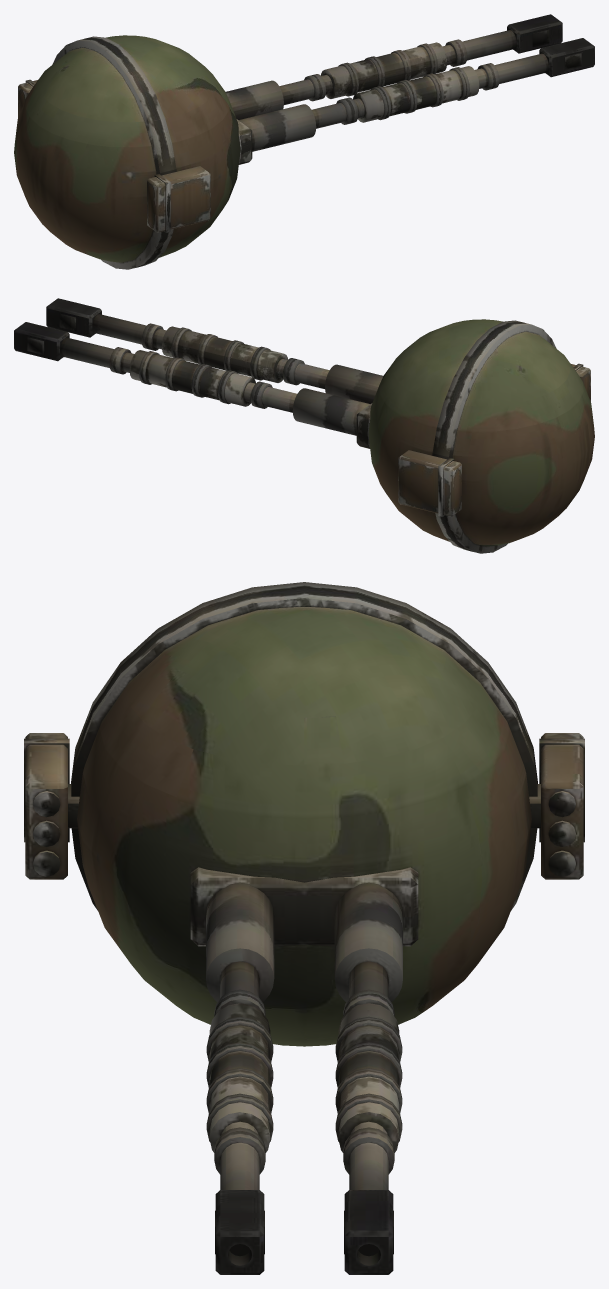
Rendered from turret_kit_tail_ball_t3_forest.glb.
3 renders of one model, top to bottom at view 1: azimuth 30°, elevation 25°; view 2: azimuth 150°, elevation 25°; view 3: azimuth 270°, elevation 25°, orthographic. The views are drawn at different scales.
Parts seen in each view (by area): view 1: turret_tail_ball_t3, pods; view 2: turret_tail_ball_t3, pods; view 3: turret_tail_ball_t3, pods.
Boxes of the visible parts, x1,y1,x2,y2 form: turret_tail_ball_t3: [14, 14, 594, 269]; pods: [18, 79, 210, 232]; turret_tail_ball_t3: [14, 298, 594, 553]; pods: [398, 363, 590, 516]; turret_tail_ball_t3: [71, 582, 537, 1274]; pods: [24, 733, 584, 879].
Bounding box in the file's own units: 1.66 × 0.62 × 0.7402.
Materials: 2 (2 with a texture image).
